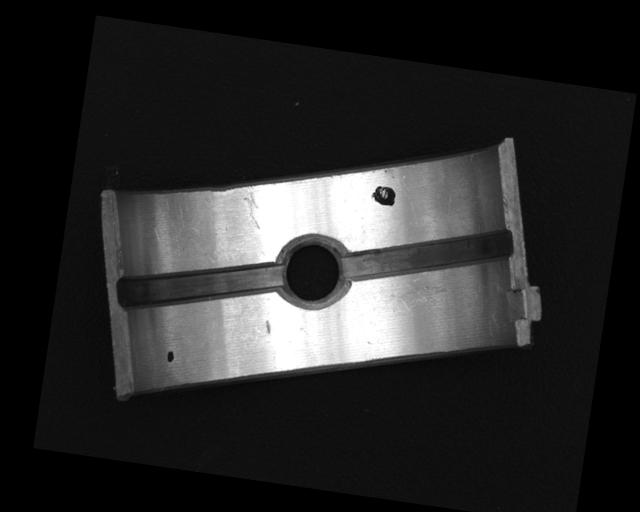blot: (368, 184, 397, 208), (164, 349, 175, 364)
bruise: (263, 318, 272, 334)
gap: (342, 209, 513, 304), (115, 243, 283, 329)
hole: (271, 233, 354, 312)
nick: (239, 185, 266, 230)
scratch: (385, 273, 454, 319)
